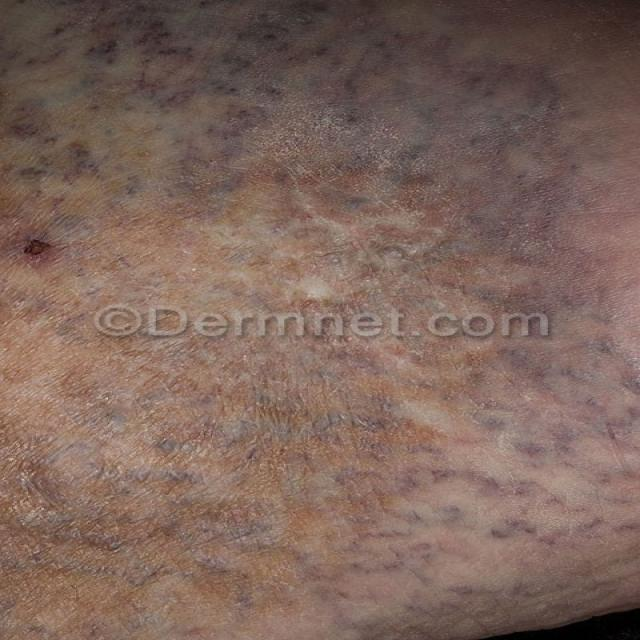Eczema: (19, 0, 608, 567)
